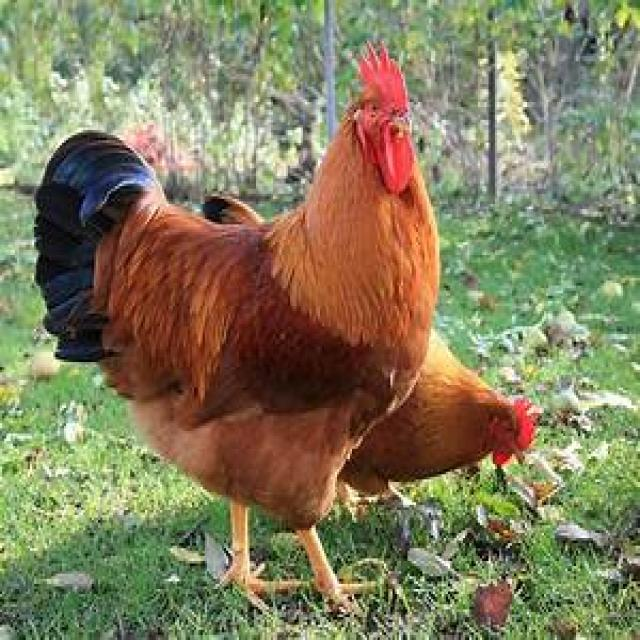hen: (35, 49, 438, 604), (340, 330, 538, 492)
